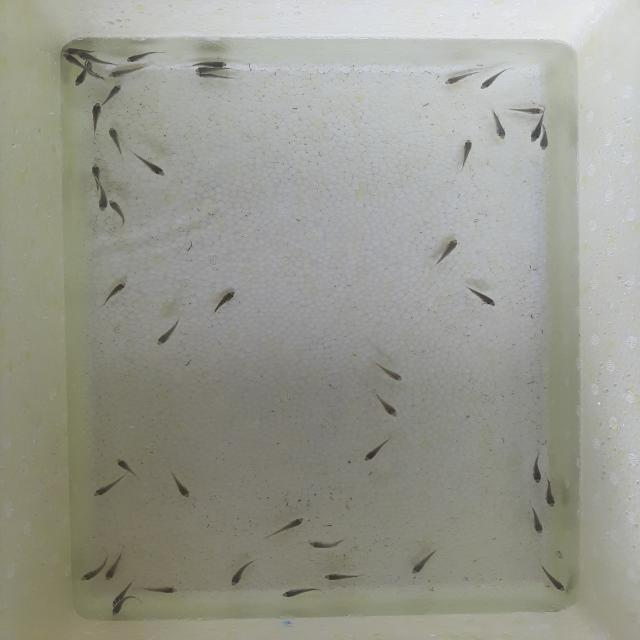fingerling: (225, 557, 255, 588), (167, 471, 194, 502), (477, 69, 508, 93), (136, 158, 170, 178), (377, 362, 407, 383), (486, 112, 508, 140), (541, 569, 569, 591), (440, 235, 460, 265), (92, 479, 121, 499), (470, 290, 498, 310), (441, 71, 478, 86), (156, 321, 178, 346), (541, 479, 558, 511), (529, 504, 545, 538), (275, 516, 305, 534), (358, 443, 386, 462), (321, 571, 363, 583), (213, 290, 238, 310), (109, 198, 130, 221), (108, 282, 130, 303), (380, 398, 401, 420), (147, 583, 185, 595), (88, 101, 105, 127), (103, 560, 123, 582), (117, 457, 140, 476), (107, 126, 123, 152), (308, 538, 340, 551), (78, 564, 101, 582), (96, 184, 110, 212), (280, 588, 318, 598), (89, 160, 103, 186), (507, 106, 547, 115), (528, 117, 542, 142), (108, 68, 146, 77), (106, 83, 124, 102), (538, 125, 549, 155), (412, 556, 427, 576), (114, 584, 131, 601), (193, 59, 229, 67), (531, 452, 540, 483), (61, 53, 78, 69), (125, 52, 149, 63), (76, 50, 100, 61), (462, 139, 472, 165), (194, 74, 230, 80), (196, 67, 230, 73), (72, 74, 86, 88), (112, 602, 124, 616), (62, 49, 85, 54)
